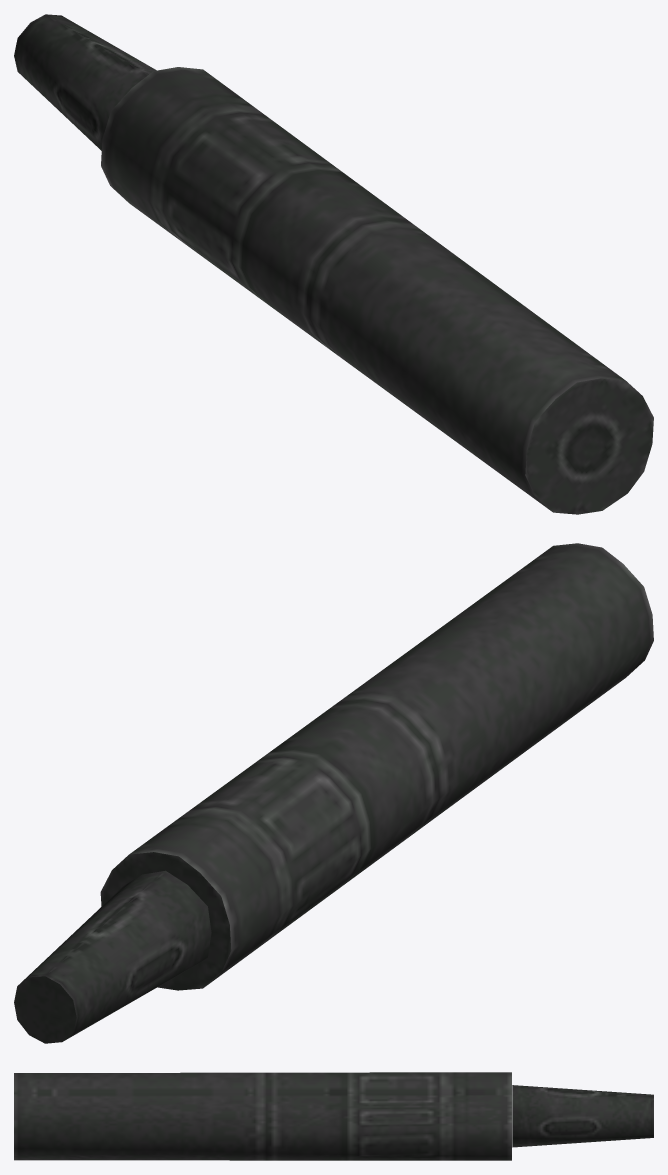
Rendered from Pickup_WeaponXsq03.glb.
The picture shows the model from 3 angles, top to bottom: view 1: azimuth 30°, elevation 25°; view 2: azimuth 150°, elevation 25°; view 3: azimuth 270°, elevation 25°; orthographic projection. The views are drawn at different scales.
Parts seen in each view (by area): view 1: pk_weapon_xsq03; view 2: pk_weapon_xsq03; view 3: pk_weapon_xsq03.
Part boxes in pixels (left/top/right/bottom): pk_weapon_xsq03: left=14, top=14, right=653, bottom=514; pk_weapon_xsq03: left=14, top=543, right=653, bottom=1043; pk_weapon_xsq03: left=14, top=1072, right=653, bottom=1160.
Size of the model in its own units: 0.2969 by 0.2968 by 2.14.
1 material, 1 textured.
